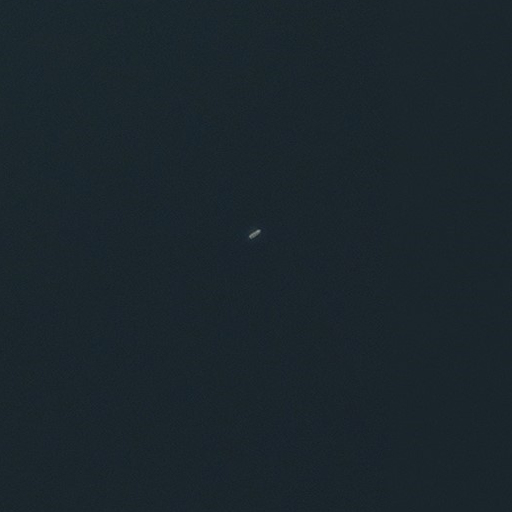ship: (246, 226, 264, 242)
